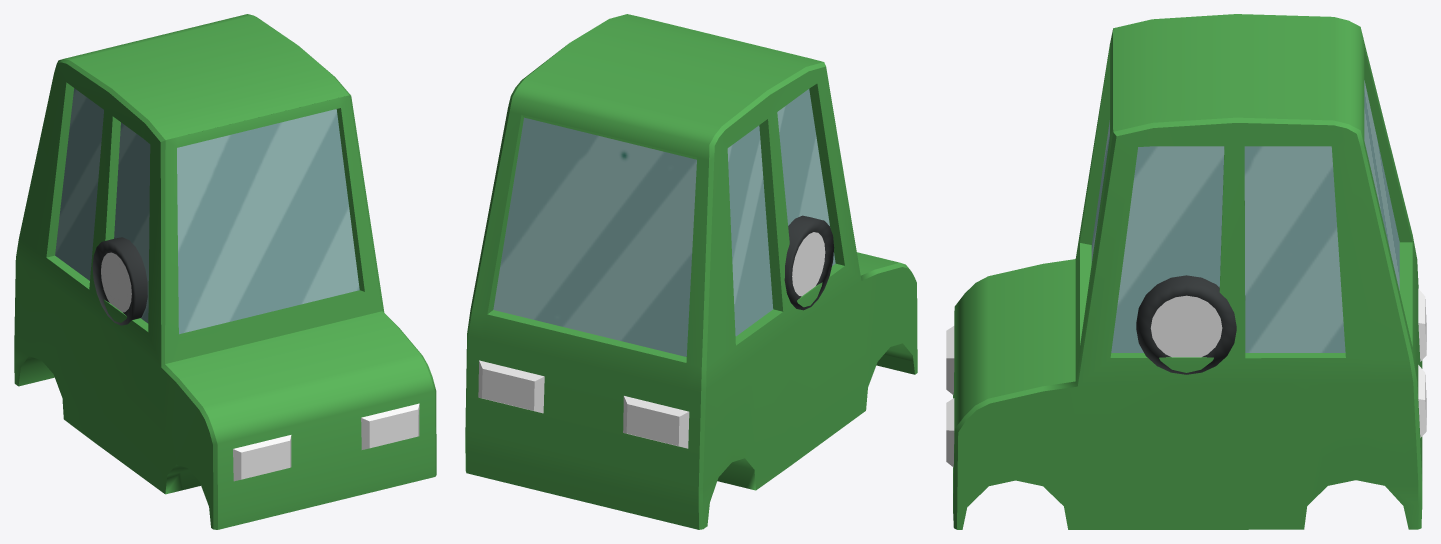
The model's file is car_2_G.fbx.
The picture shows the model from 3 angles, left to right: view 1: azimuth 30°, elevation 25°; view 2: azimuth 150°, elevation 25°; view 3: azimuth 270°, elevation 25°; orthographic projection. The views are drawn at different scales.
Parts seen in each view (by area): view 1: car_2_chasis_G, car_2_right_wheel_G, car_2_back_wheel_G; view 2: car_2_chasis_G, car_2_right_wheel_G, car_2_back_wheel_G; view 3: car_2_chasis_G, car_2_left_wheel_G, car_2_back_wheel_G.
Part boxes in pixels (bbox=[...]): car_2_chasis_G: bbox=[14, 14, 436, 529]; car_2_right_wheel_G: bbox=[92, 241, 147, 324]; car_2_back_wheel_G: bbox=[92, 237, 147, 325]; car_2_chasis_G: bbox=[465, 14, 917, 529]; car_2_right_wheel_G: bbox=[785, 219, 834, 308]; car_2_back_wheel_G: bbox=[784, 215, 833, 310]; car_2_chasis_G: bbox=[946, 14, 1426, 529]; car_2_left_wheel_G: bbox=[1136, 283, 1236, 372]; car_2_back_wheel_G: bbox=[1136, 275, 1236, 374].
Size of the model in its own units: 80.78 by 120 by 130.
